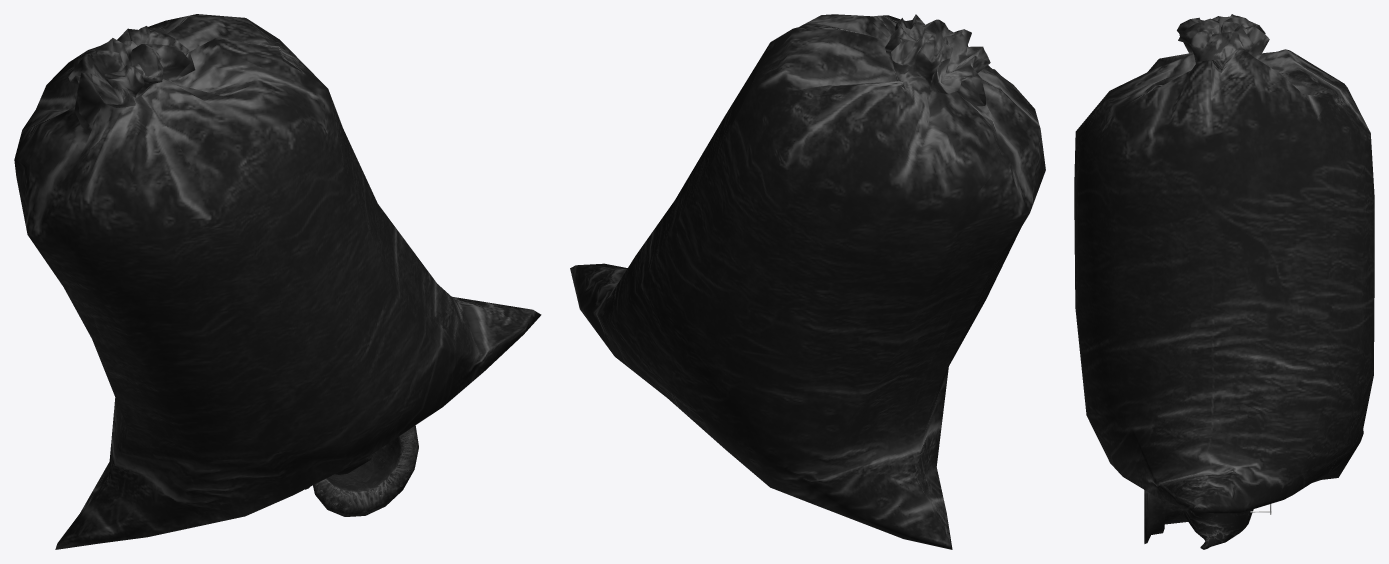
File: trash-bags-cd1342.glb
The picture shows the model from 3 angles, left to right: view 1: azimuth 30°, elevation 25°; view 2: azimuth 150°, elevation 25°; view 3: azimuth 270°, elevation 25°; orthographic projection. The views are drawn at different scales.
Visible parts, largest first — view 1: PropMesh; view 2: PropMesh; view 3: PropMesh.
Boxes of the visible parts, x1,y1,x2,y2 form: PropMesh: (14,14,541,549); PropMesh: (570,14,1045,549); PropMesh: (1074,14,1374,549).
Bounding box in the file's own units: 2.22 × 2.2 × 1.29.
Materials: 6 (5 with a texture image).
